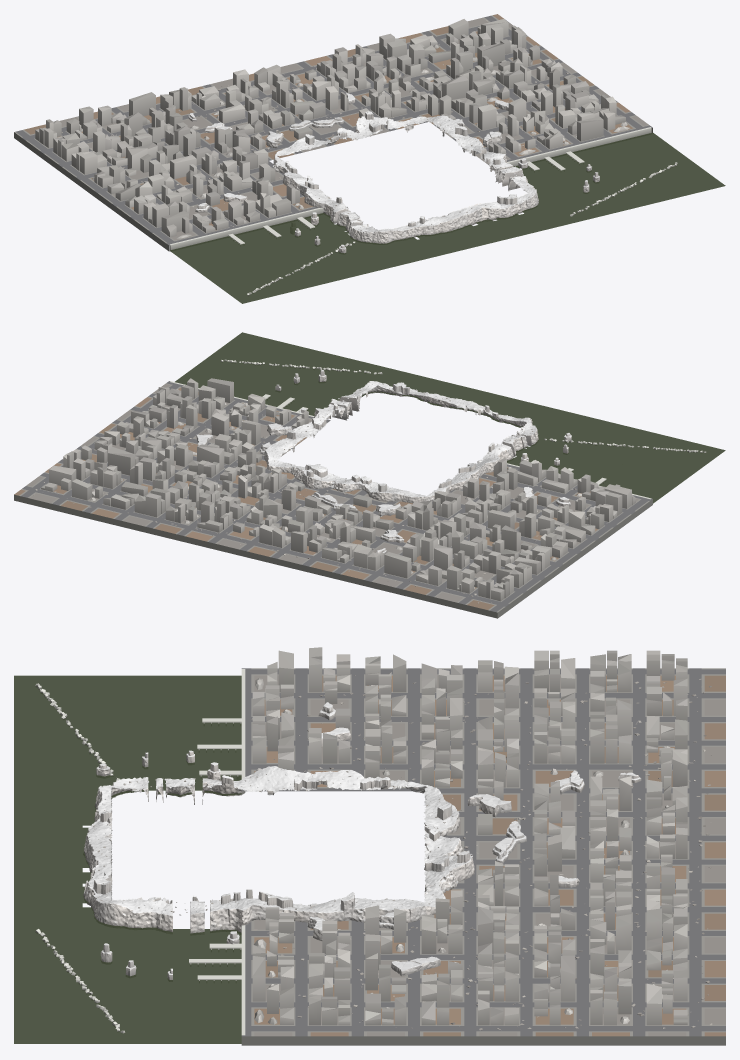
File: L17_outer_v3.fbx
The picture shows the model from 3 angles, top to bottom: view 1: azimuth 30°, elevation 25°; view 2: azimuth 150°, elevation 25°; view 3: azimuth 270°, elevation 25°; orthographic projection. The views are drawn at different scales.
Visible parts, largest first — view 1: OUT3_Ruins, OUT3_SeaWater, OUT3_Ground_NW, OUT3_Ground_N, OUT3_Ground_NE, OUT3_Quays, OUT3_Ground_W, OUT3_Ground_E, OUT3_Rock_N, OUT3_Rock_SW, OUT3_Rock_SE, OUT3_Rock_S (+4 smaller); view 2: OUT3_Ruins, OUT3_SeaWater, OUT3_Ground_N, OUT3_Ground_NW, OUT3_Ground_NE, OUT3_Ground_E, OUT3_Ground_W, OUT3_Rock_N, OUT3_Rock_NW, OUT3_Rock_NE, OUT3_Rock_SE, OUT3_Rock_W (+4 smaller); view 3: OUT3_Ruins, OUT3_SeaWater, OUT3_Ground_NE, OUT3_Ground_NW, OUT3_Ground_N, OUT3_Ground_E, OUT3_Ground_W, OUT3_Rock_N, OUT3_Rock_SE, OUT3_Quays, OUT3_Rock_NE, OUT3_Rock_E (+6 smaller).
Boxes of the visible parts, <box> form: OUT3_Ruins: <box>35,19,629,238</box>; OUT3_SeaWater: <box>169,132,725,303</box>; OUT3_Ground_NW: <box>14,104,304,251</box>; OUT3_Ground_N: <box>156,48,389,151</box>; OUT3_Ground_NE: <box>362,14,652,140</box>; OUT3_Quays: <box>169,127,677,295</box>; OUT3_Ground_W: <box>99,184,318,245</box>; OUT3_Ground_E: <box>474,82,652,164</box>; OUT3_Rock_N: <box>269,93,388,147</box>; OUT3_Rock_SW: <box>314,206,418,253</box>; OUT3_Rock_SE: <box>489,167,599,217</box>; OUT3_Rock_S: <box>416,202,502,235</box>; OUT3_Ruins: <box>41,378,635,601</box>; OUT3_SeaWater: <box>175,332,725,503</box>; OUT3_Ground_N: <box>14,480,497,618</box>; OUT3_Ground_NW: <box>354,489,652,618</box>; OUT3_Ground_NE: <box>14,426,306,528</box>; OUT3_Ground_E: <box>107,381,330,445</box>; OUT3_Ground_W: <box>479,464,652,550</box>; OUT3_Rock_N: <box>298,464,388,516</box>; OUT3_Rock_NW: <box>376,468,471,553</box>; OUT3_Rock_NE: <box>196,430,309,479</box>; OUT3_Rock_SE: <box>293,370,418,418</box>; OUT3_Rock_W: <box>459,442,570,506</box>; OUT3_Ruins: <box>252,647,687,1025</box>; OUT3_SeaWater: <box>14,675,241,1043</box>; OUT3_Ground_NE: <box>241,883,725,1045</box>; OUT3_Ground_NW: <box>348,668,725,818</box>; OUT3_Ground_N: <box>444,771,725,930</box>; OUT3_Ground_E: <box>241,919,434,1036</box>; OUT3_Ground_W: <box>241,668,450,791</box>; OUT3_Rock_N: <box>424,801,579,887</box>; OUT3_Rock_SE: <box>83,870,210,976</box>; OUT3_Quays: <box>35,669,245,1035</box>; OUT3_Rock_NE: <box>325,863,457,976</box>; OUT3_Rock_E: <box>167,889,335,979</box>.
Size of the model in its own units: 712 by 53.72 by 582.
